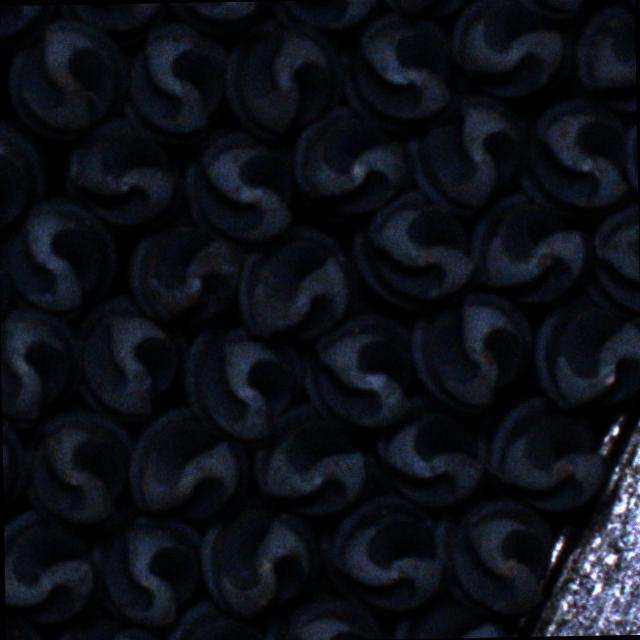tool_b: (472, 380, 604, 510), (304, 297, 429, 430), (406, 88, 530, 217), (199, 493, 324, 619), (408, 291, 536, 414), (350, 188, 474, 312), (433, 492, 552, 620), (88, 504, 206, 631), (74, 293, 188, 424), (338, 9, 458, 132), (125, 404, 248, 524), (252, 401, 380, 516), (24, 405, 136, 535), (318, 492, 443, 608), (224, 19, 340, 143), (6, 18, 127, 136), (516, 96, 632, 218), (290, 106, 408, 224), (185, 323, 303, 441), (468, 190, 590, 304), (122, 22, 232, 144), (236, 226, 353, 340), (62, 117, 180, 230), (450, 0, 574, 107), (2, 198, 118, 312), (183, 122, 294, 240), (128, 216, 244, 326), (374, 394, 486, 506), (533, 293, 640, 409), (3, 510, 94, 624), (0, 308, 77, 427), (382, 583, 508, 639), (583, 198, 640, 318), (574, 3, 636, 111)
